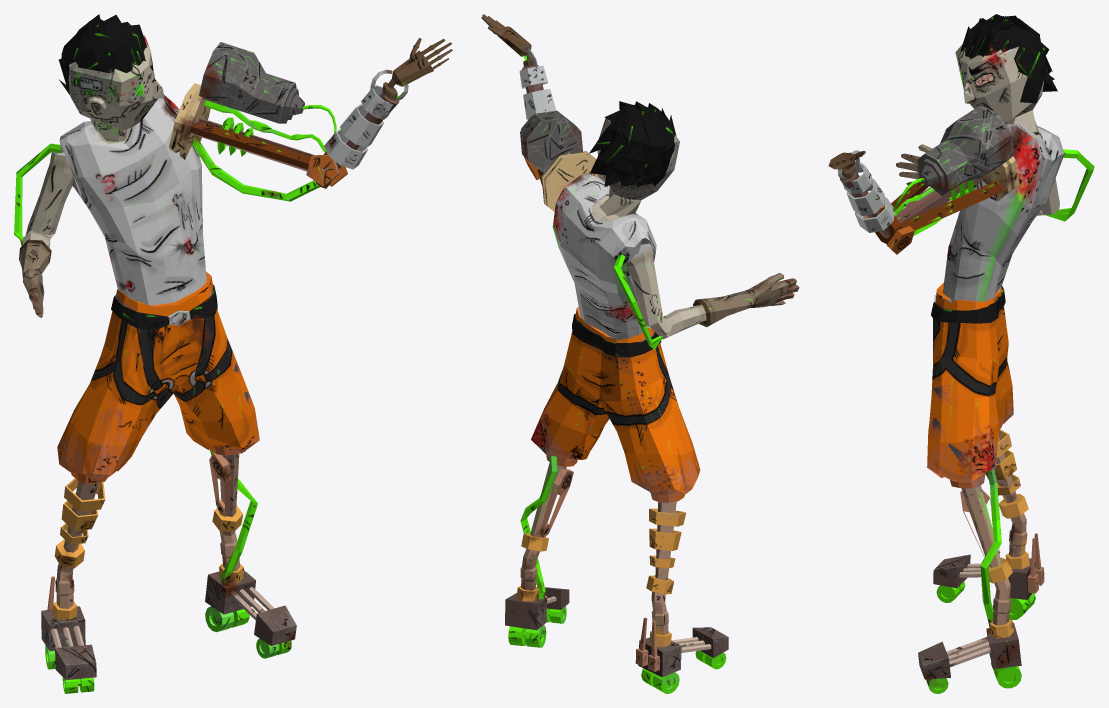
Rendered from CyborgFINALAnimation_000051.obj.
3 renders of one model, left to right at view 1: azimuth 30°, elevation 25°; view 2: azimuth 150°, elevation 25°; view 3: azimuth 270°, elevation 25°, orthographic. The views are drawn at different scales.
Parts seen in each view (by area): view 1: CyborgMesh_Cube.002; view 2: CyborgMesh_Cube.002; view 3: CyborgMesh_Cube.002.
Boxes of the visible parts, left/top/right/bottom form: CyborgMesh_Cube.002: left=14, top=14, right=452, bottom=693; CyborgMesh_Cube.002: left=481, top=14, right=799, bottom=693; CyborgMesh_Cube.002: left=828, top=14, right=1094, bottom=693.
Bounding box in the file's own units: 5.99 × 9.55 × 3.75.
